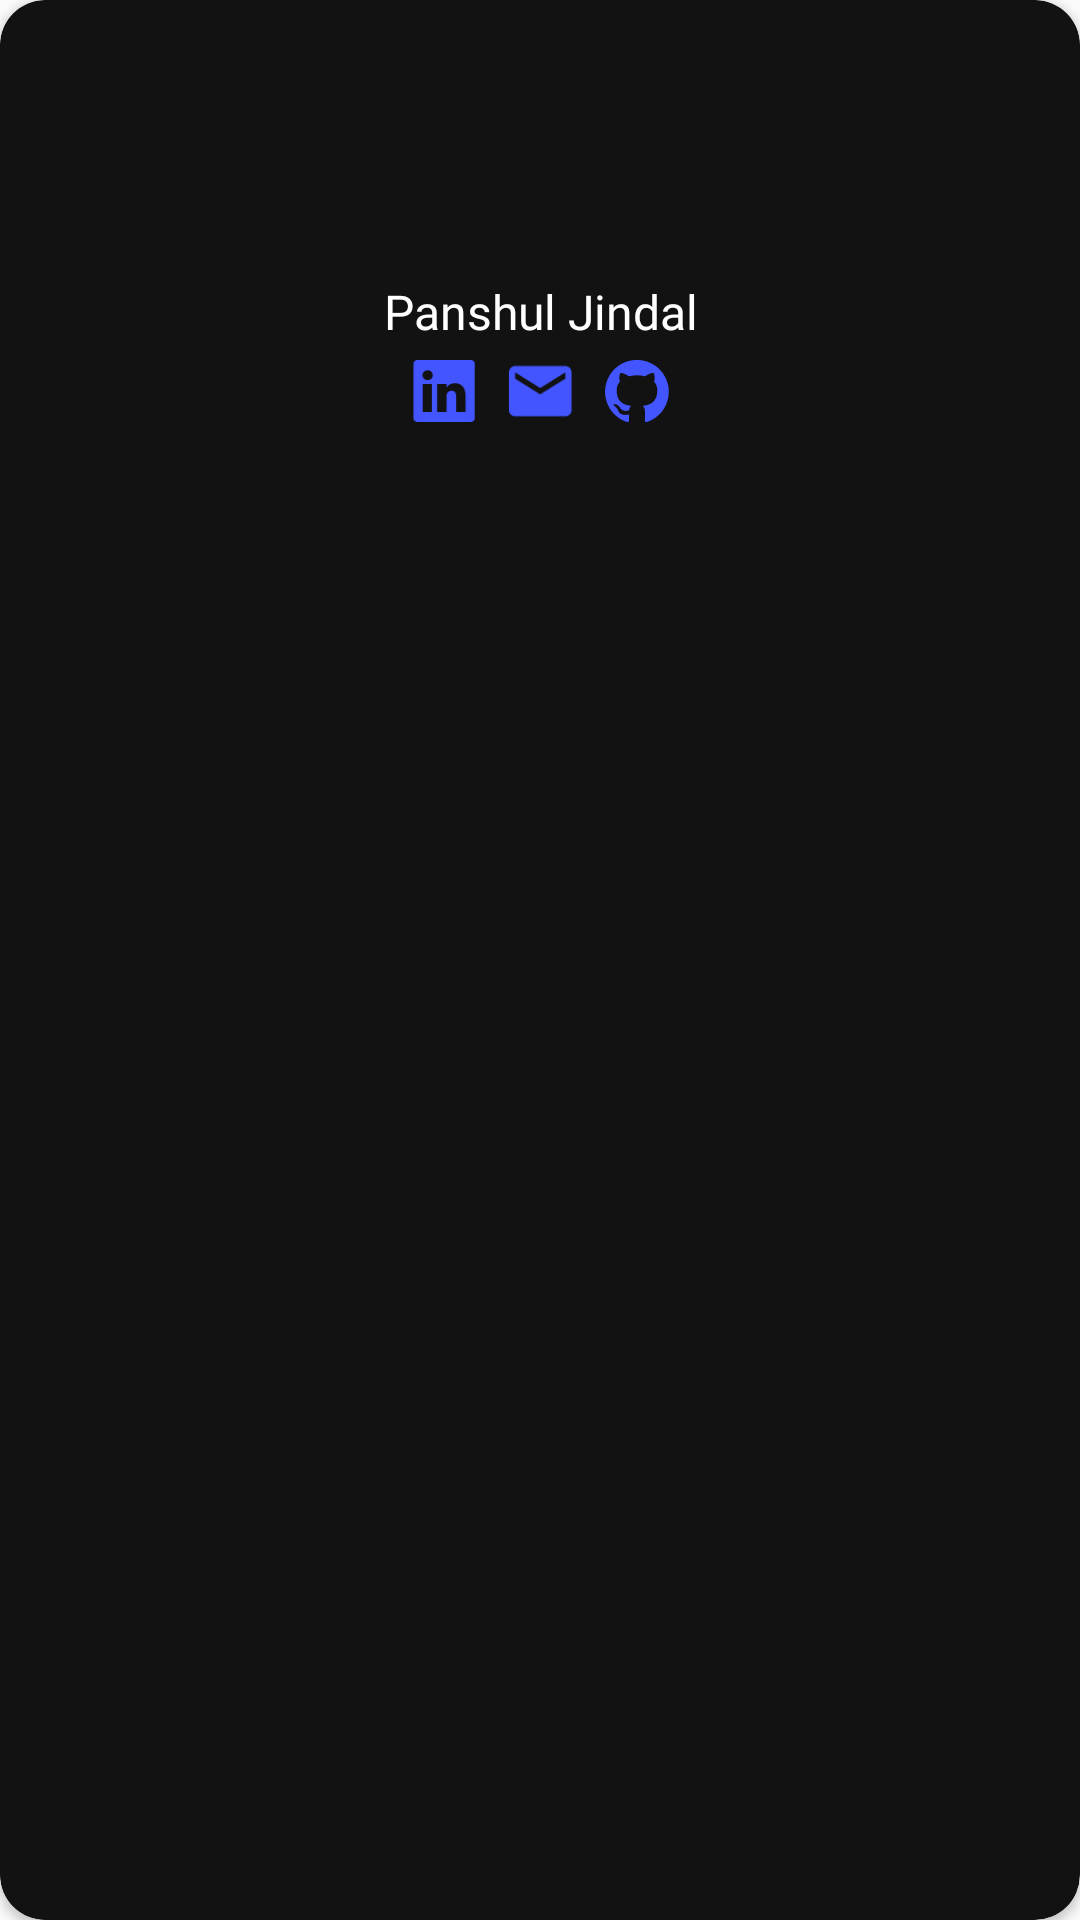

Screen size 1080×1920. Icon name, then its box in pixels as (x1, y1, x2, y2):
email: (509, 365, 572, 417)
